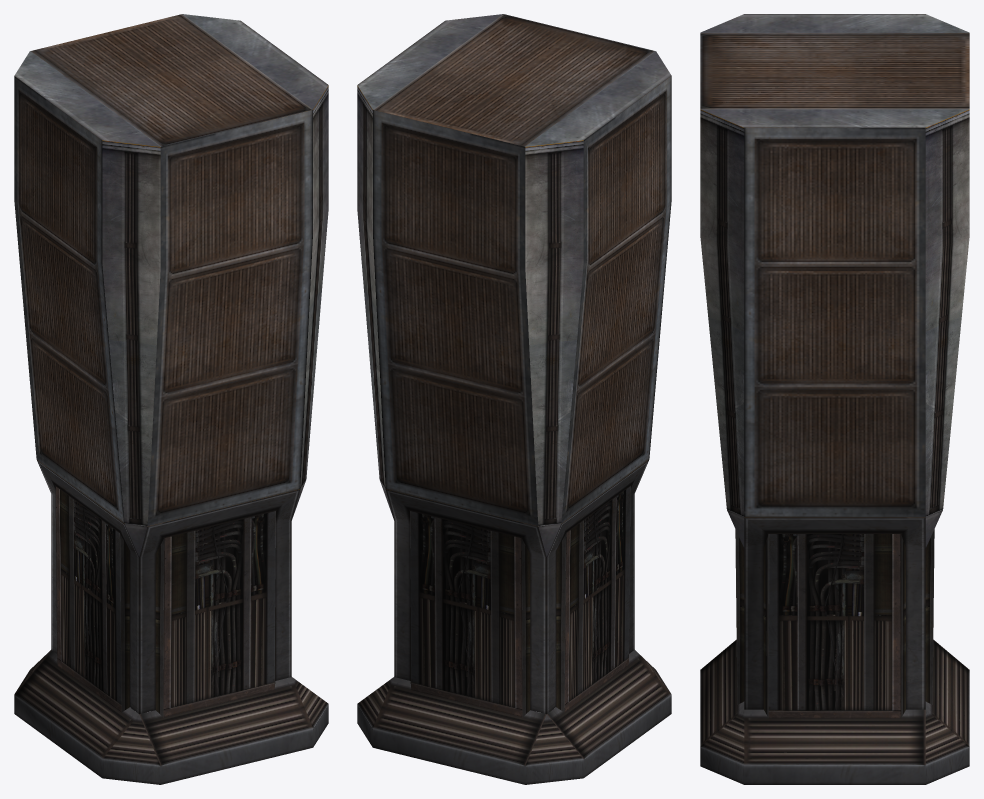
Rendered from Pillar_05.fbx.
The picture shows the model from 3 angles, left to right: view 1: azimuth 30°, elevation 25°; view 2: azimuth 150°, elevation 25°; view 3: azimuth 270°, elevation 25°; orthographic projection. The views are drawn at different scales.
Visible parts, largest first — view 1: Pillar_05; view 2: Pillar_05; view 3: Pillar_05.
Part boxes in pixels (x1,y1,x2,y2): Pillar_05: [14, 14, 328, 784]; Pillar_05: [357, 14, 671, 784]; Pillar_05: [700, 14, 969, 784].
Bounding box in the file's own units: 149 × 400 × 149.
1 material, 1 textured.
